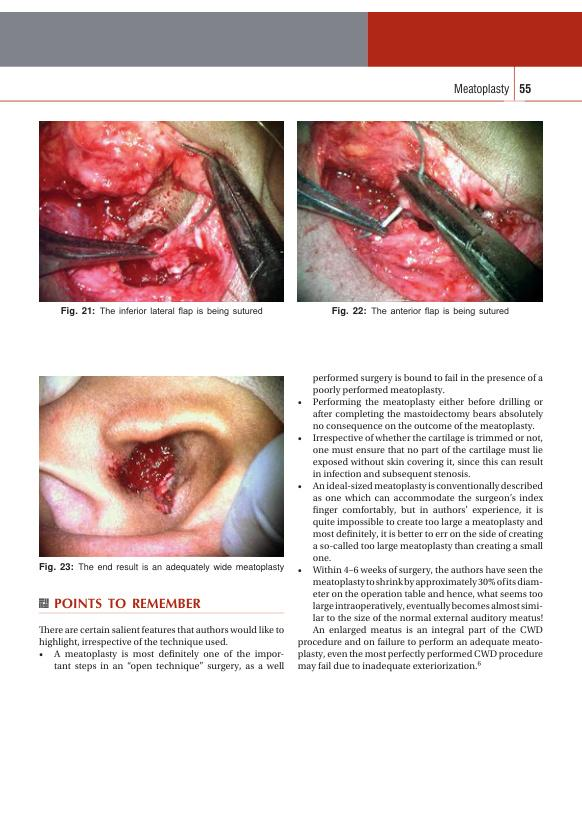caption: (38, 561, 285, 573), (60, 306, 264, 317), (331, 306, 510, 317)
header: (453, 81, 511, 97)
image: (296, 119, 544, 303), (38, 375, 286, 558), (38, 119, 285, 302)
sub-section-heading: (52, 597, 202, 610)
text: (296, 370, 545, 674), (37, 624, 286, 673)
